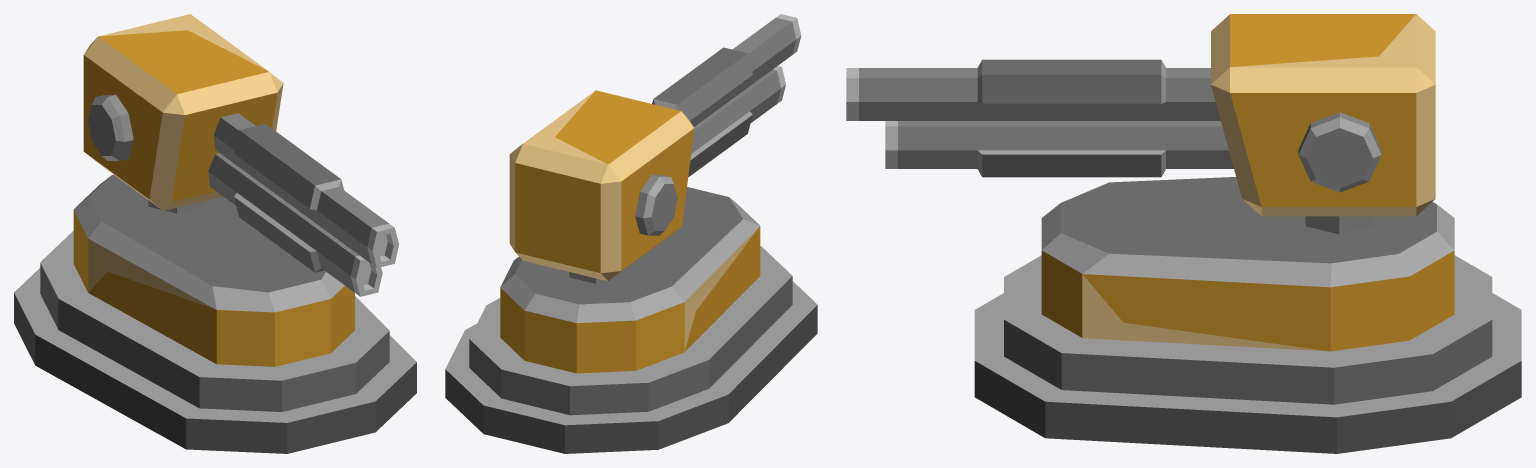
Rendered from tower_lethal_yellow_1.fbx.
3 views of the same model, side by side, from view 1: azimuth 30°, elevation 25°; view 2: azimuth 150°, elevation 25°; view 3: azimuth 270°, elevation 25° (orthographic). The views are drawn at different scales.
Visible parts, largest first — view 1: tower_lethal_yellow_1, top_lethal_yellow_1; view 2: tower_lethal_yellow_1, top_lethal_yellow_1; view 3: tower_lethal_yellow_1, top_lethal_yellow_1.
Part boxes in pixels (<box>): tower_lethal_yellow_1: <box>14,174,416,453</box>; top_lethal_yellow_1: <box>83,14,399,296</box>; tower_lethal_yellow_1: <box>445,187,817,453</box>; top_lethal_yellow_1: <box>509,14,801,283</box>; tower_lethal_yellow_1: <box>974,177,1521,453</box>; top_lethal_yellow_1: <box>846,14,1435,234</box>.
Size of the model in its own units: 124 by 117 by 216.
